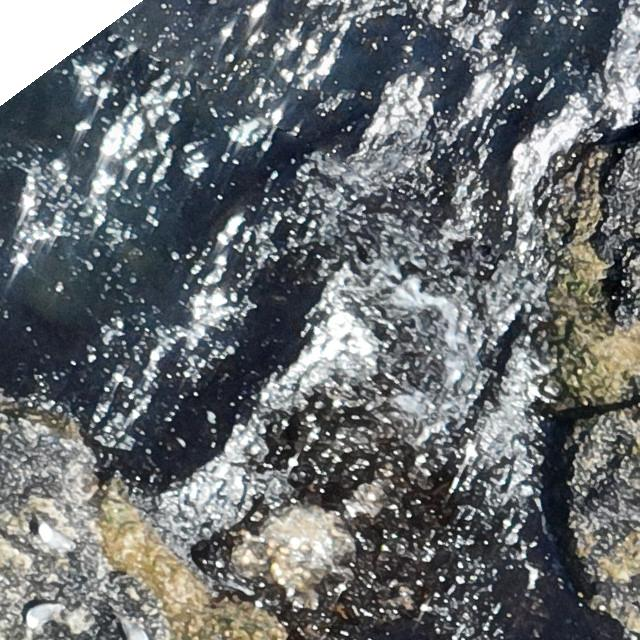umineko: (39, 523, 74, 550), (25, 605, 53, 626)
